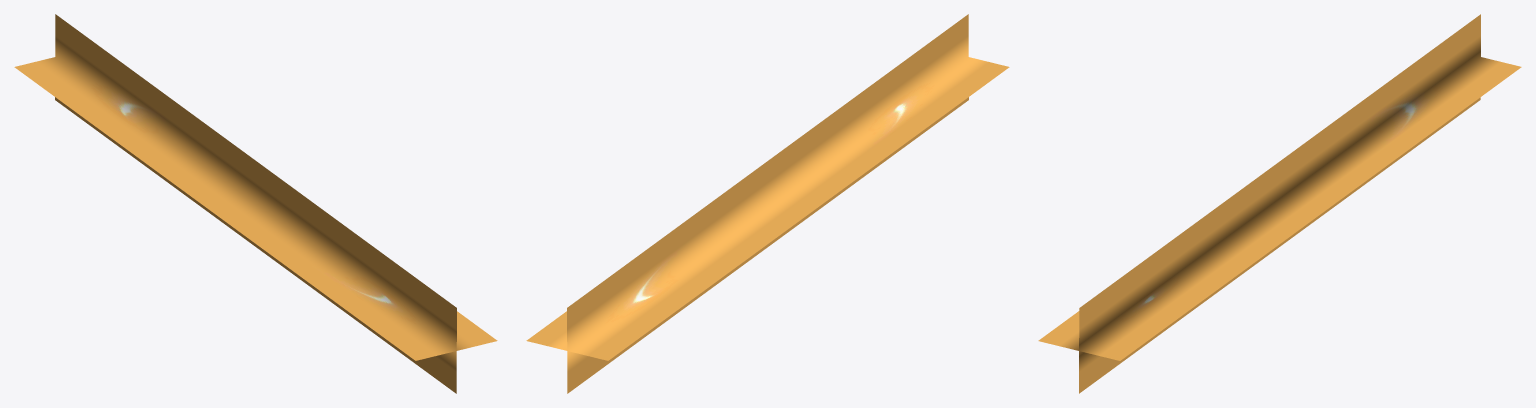
File: 0469_xiantiao_M_04.glb
3 views of the same model, side by side, from view 1: azimuth 30°, elevation 25°; view 2: azimuth 150°, elevation 25°; view 3: azimuth 330°, elevation 25° (orthographic).
Size of the model in its own units: 0.2598 by 0.2598 by 2.2.
Materials: 1 (1 with a texture image).
